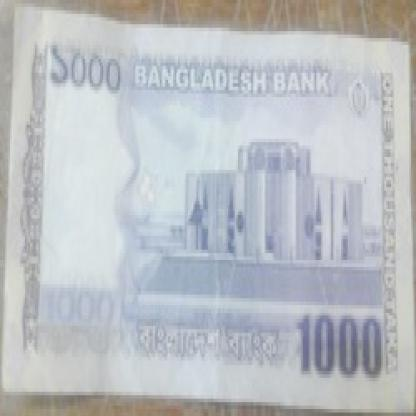One Thousand taka: (291, 305, 391, 392), (46, 38, 124, 108), (40, 284, 120, 333)
